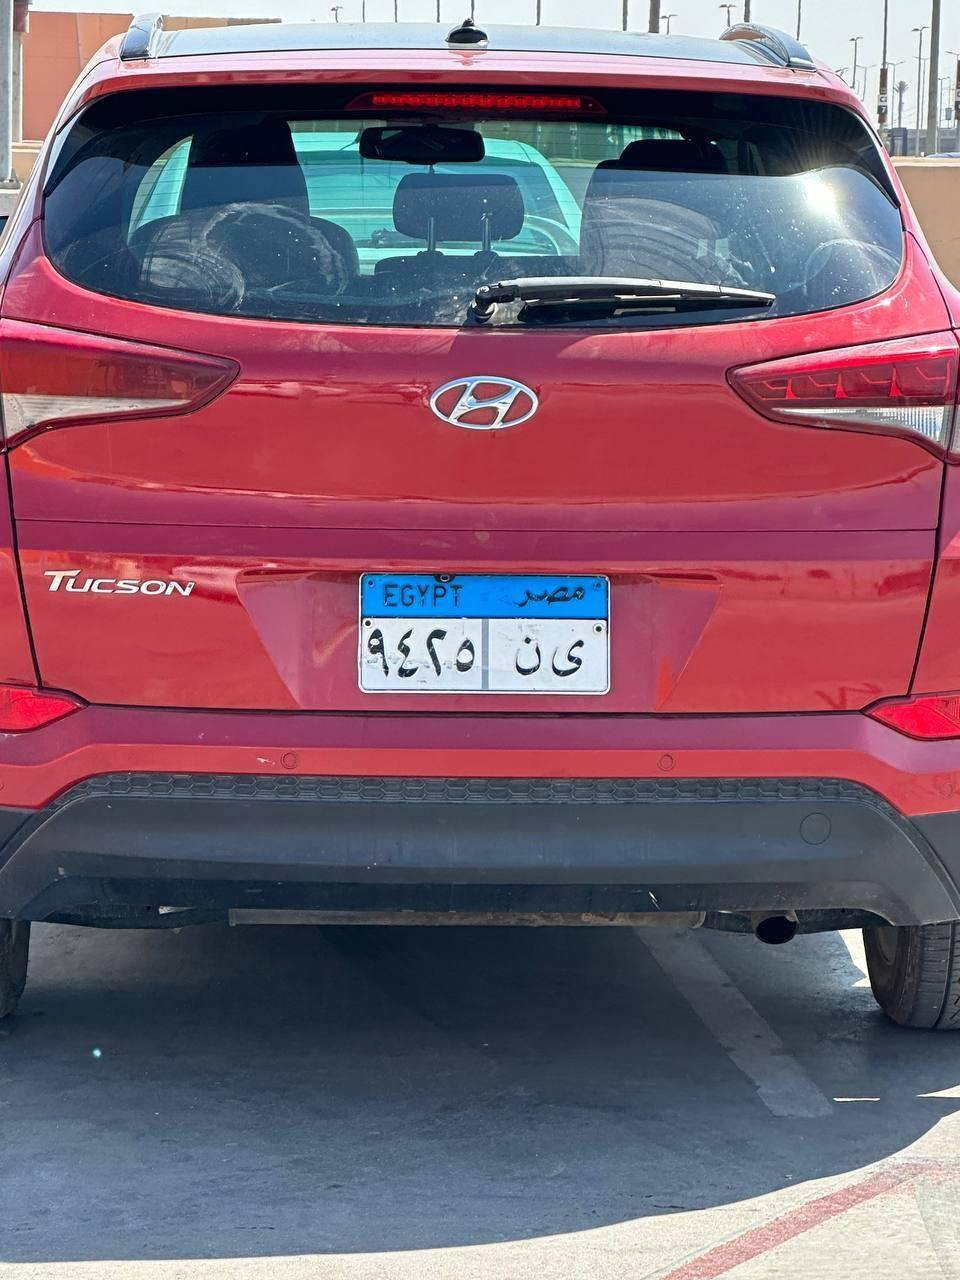2: (424, 626, 453, 679)
4: (394, 620, 420, 676)
5: (456, 637, 478, 675)
9: (366, 626, 393, 678)
License Plate: (357, 562, 612, 709)
Noon: (514, 635, 550, 675)
Yeeh: (550, 634, 589, 676)
